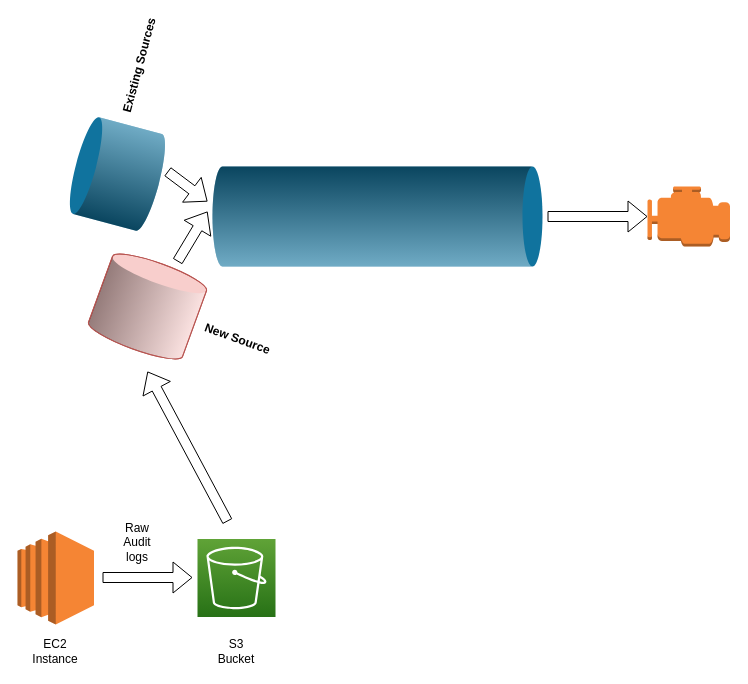
This 748x684 diagram has some shape labels left out. Here are the shapes that lost their labels. From the top down, the centre of each, then its label:
the point at 377,216: Data Pipeline
the point at 688,216: Log Processing Engine
